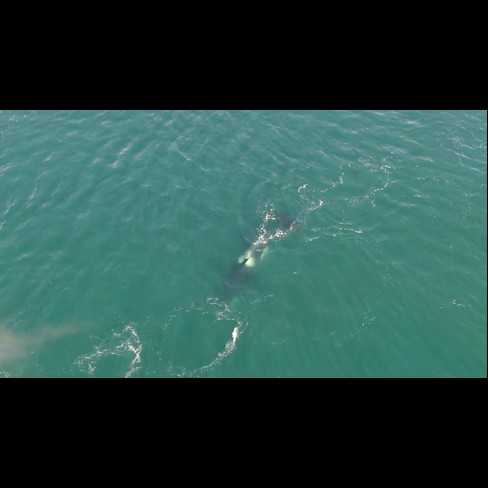orca: (209, 198, 306, 318)
